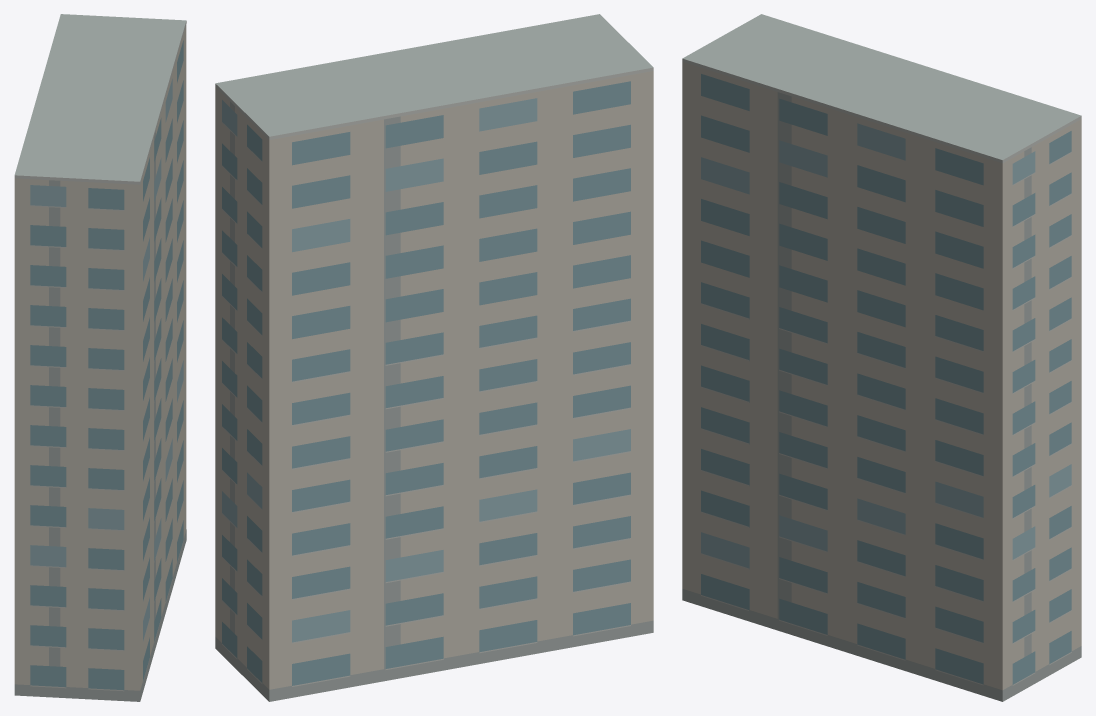
Rendered from residential-8693af3b-08ae-4a41-a3eb-8dc64d4a9f9c.glb.
3 views of the same model, side by side, from view 1: azimuth 30°, elevation 25°; view 2: azimuth 150°, elevation 25°; view 3: azimuth 270°, elevation 25° (orthographic). The views are drawn at different scales.
Parts seen in each view (by area): view 1: residential-8693af3b-08ae-4a41-a3eb-8dc64d4a9f9c.tmp; view 2: residential-8693af3b-08ae-4a41-a3eb-8dc64d4a9f9c.tmp; view 3: residential-8693af3b-08ae-4a41-a3eb-8dc64d4a9f9c.tmp.
Boxes of the visible parts, <box> form: residential-8693af3b-08ae-4a41-a3eb-8dc64d4a9f9c.tmp: <box>14,14,186,701</box>; residential-8693af3b-08ae-4a41-a3eb-8dc64d4a9f9c.tmp: <box>215,14,653,701</box>; residential-8693af3b-08ae-4a41-a3eb-8dc64d4a9f9c.tmp: <box>682,14,1081,701</box>.
Size of the model in its own units: 23.74 by 41 by 27.41.
